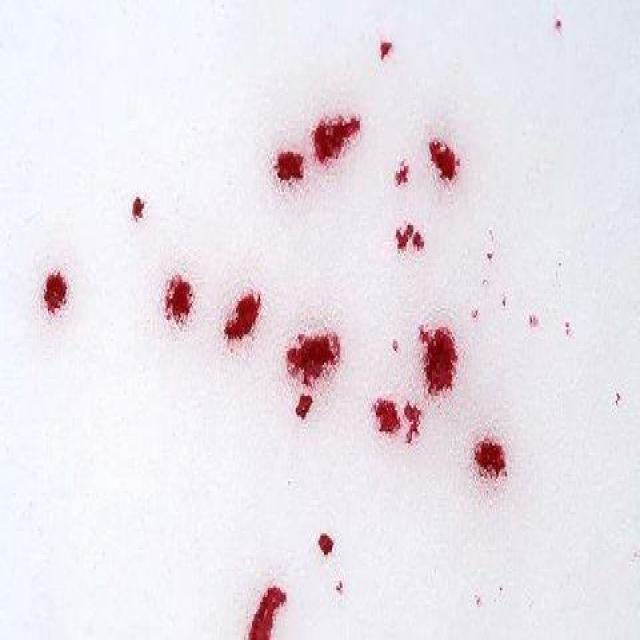flood: (416, 324, 456, 396), (289, 331, 342, 384), (252, 586, 286, 640)
